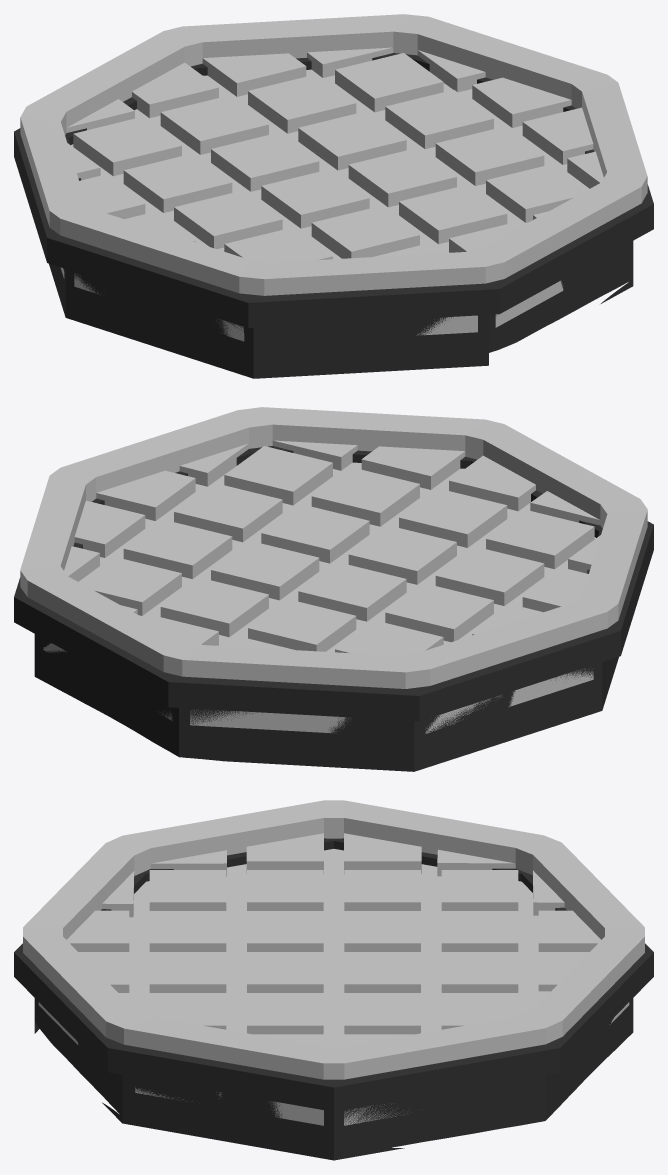
Rendered from manhole.obj.
3 views of the same model, one above another, from view 1: azimuth 30°, elevation 25°; view 2: azimuth 150°, elevation 25°; view 3: azimuth 270°, elevation 25° (orthographic). The views are drawn at different scales.
Parts seen in each view (by area): view 1: Cylinder.001, Cylinder_Cylinder.002; view 2: Cylinder.001, Cylinder_Cylinder.002; view 3: Cylinder.001, Cylinder_Cylinder.002.
Part boxes in pixels (x1,y1,x2,y2): Cylinder.001: (20,14,647,341); Cylinder_Cylinder.002: (14,53,653,378); Cylinder.001: (20,407,647,733); Cylinder_Cylinder.002: (14,446,653,771); Cylinder.001: (23,800,644,1125); Cylinder_Cylinder.002: (14,838,653,1160).
Size of the model in its own units: 2.14 by 0.3763 by 2.14.
2 materials, 1 textured.
